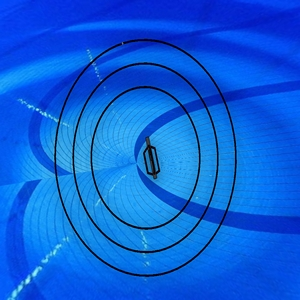circle: (52, 34, 239, 279)
submarine: (130, 134, 171, 187)
